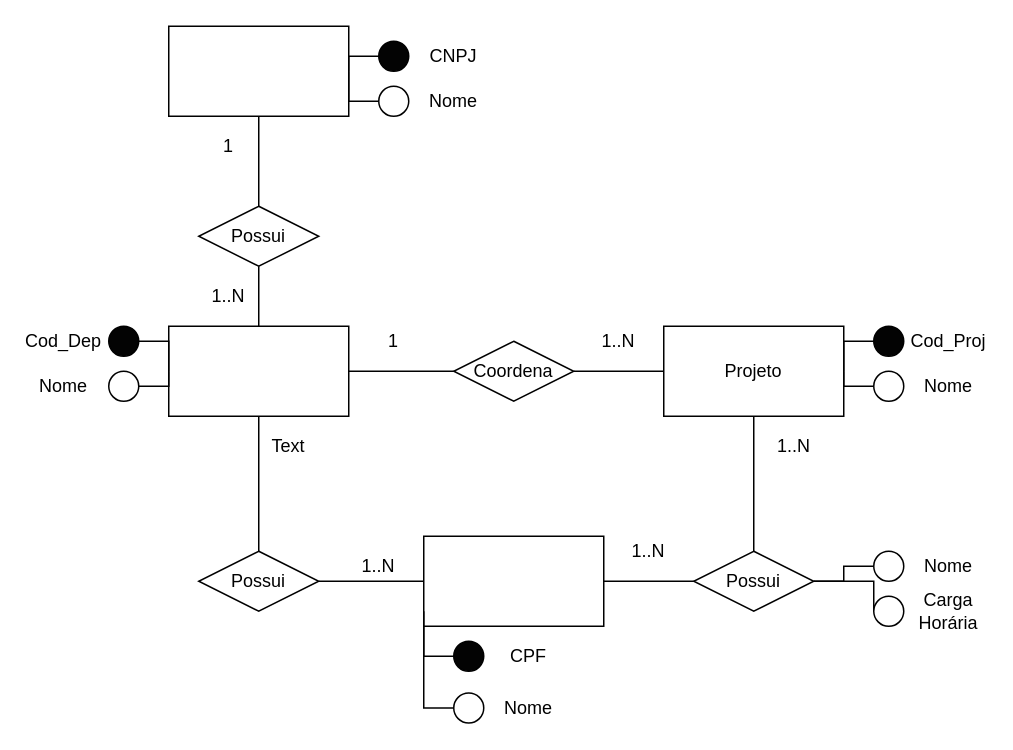
This 1013x750 diagram has some shape labels left out. Each missing label, with the box of its shape:
Contrutora: (167, 25, 349, 116)
Departamentos: (167, 325, 349, 416)
Empregado: (422, 535, 604, 626)
